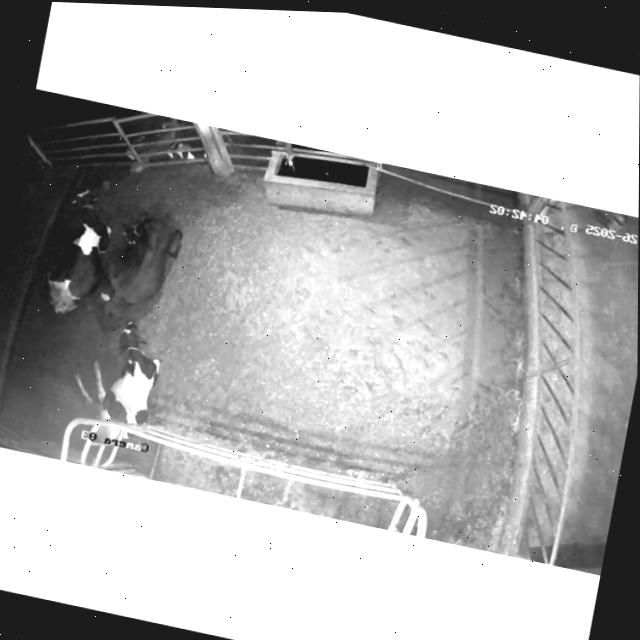lay: (63, 309, 183, 438), (91, 197, 194, 338), (32, 173, 116, 323)
